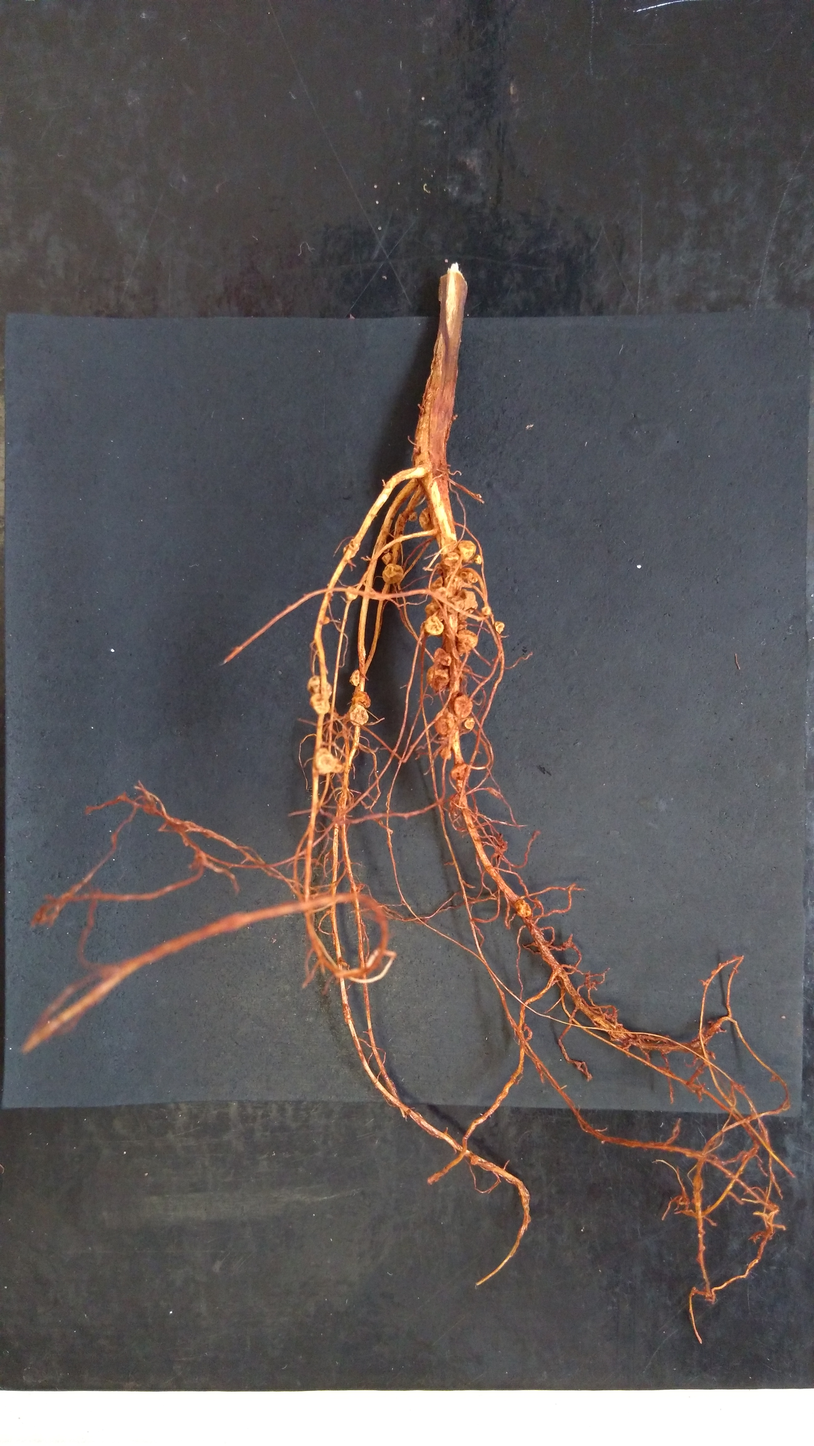nodule: (425, 664, 451, 692), (315, 747, 341, 774), (455, 628, 478, 656), (306, 675, 332, 699), (434, 708, 455, 736), (380, 563, 405, 584), (452, 694, 473, 718), (423, 614, 445, 636), (456, 539, 477, 562), (431, 646, 452, 668), (458, 587, 479, 609), (310, 693, 331, 715), (513, 897, 533, 920), (418, 506, 435, 532), (349, 704, 369, 725), (450, 762, 468, 783), (341, 540, 360, 559), (440, 550, 460, 568), (447, 594, 464, 614), (351, 691, 371, 708), (422, 602, 442, 616), (429, 575, 444, 593), (439, 744, 453, 762), (345, 585, 359, 602), (463, 717, 477, 732), (493, 620, 506, 635), (459, 608, 474, 621), (349, 669, 360, 686), (381, 553, 394, 566), (408, 510, 419, 522), (480, 605, 491, 617), (473, 553, 483, 566), (321, 614, 331, 625)
